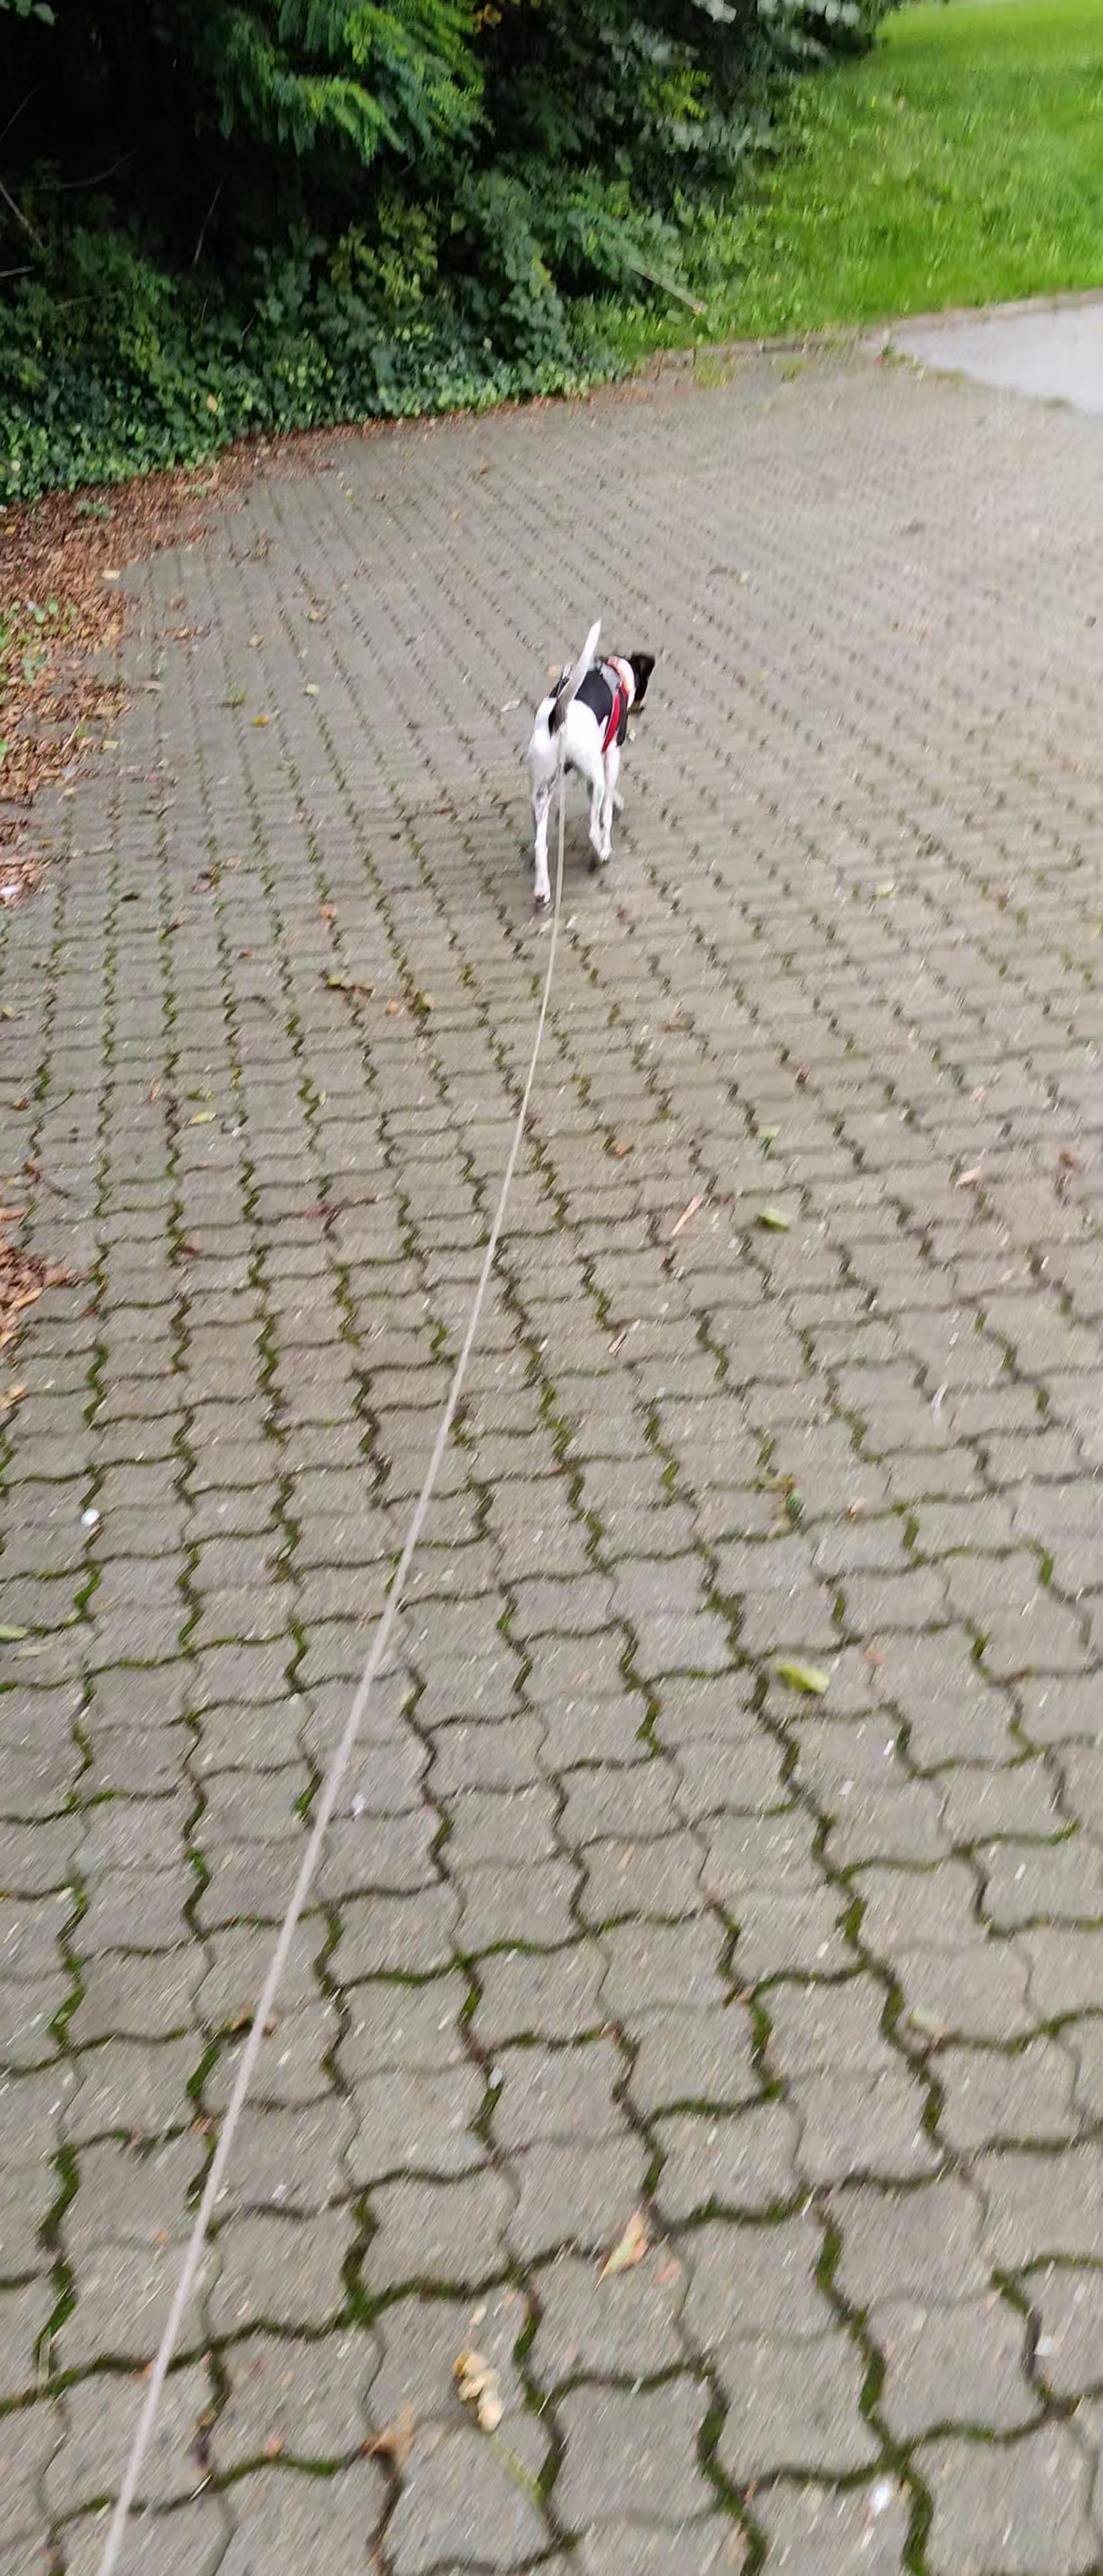Dog: (478, 611, 694, 935)
